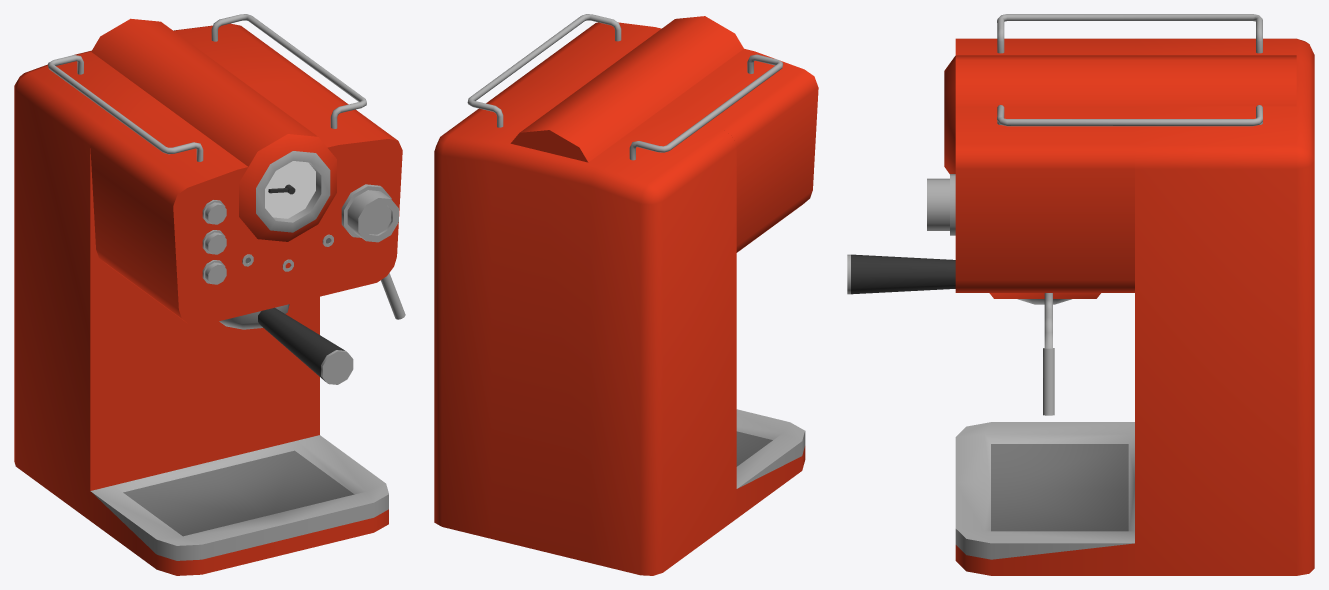
File: CoffeeMachine.fbx
3 renders of one model, left to right at view 1: azimuth 30°, elevation 25°; view 2: azimuth 150°, elevation 25°; view 3: azimuth 270°, elevation 25°, orthographic. The views are drawn at different scales.
Parts seen in each view (by area): view 1: Cube; view 2: Cube; view 3: Cube.
Boxes of the visible parts, box(x1,y1,x2,y2) form: Cube: box(14, 14, 405, 575); Cube: box(434, 14, 818, 575); Cube: box(847, 14, 1314, 575).
Size of the model in its own units: 95.75 by 140 by 130.
